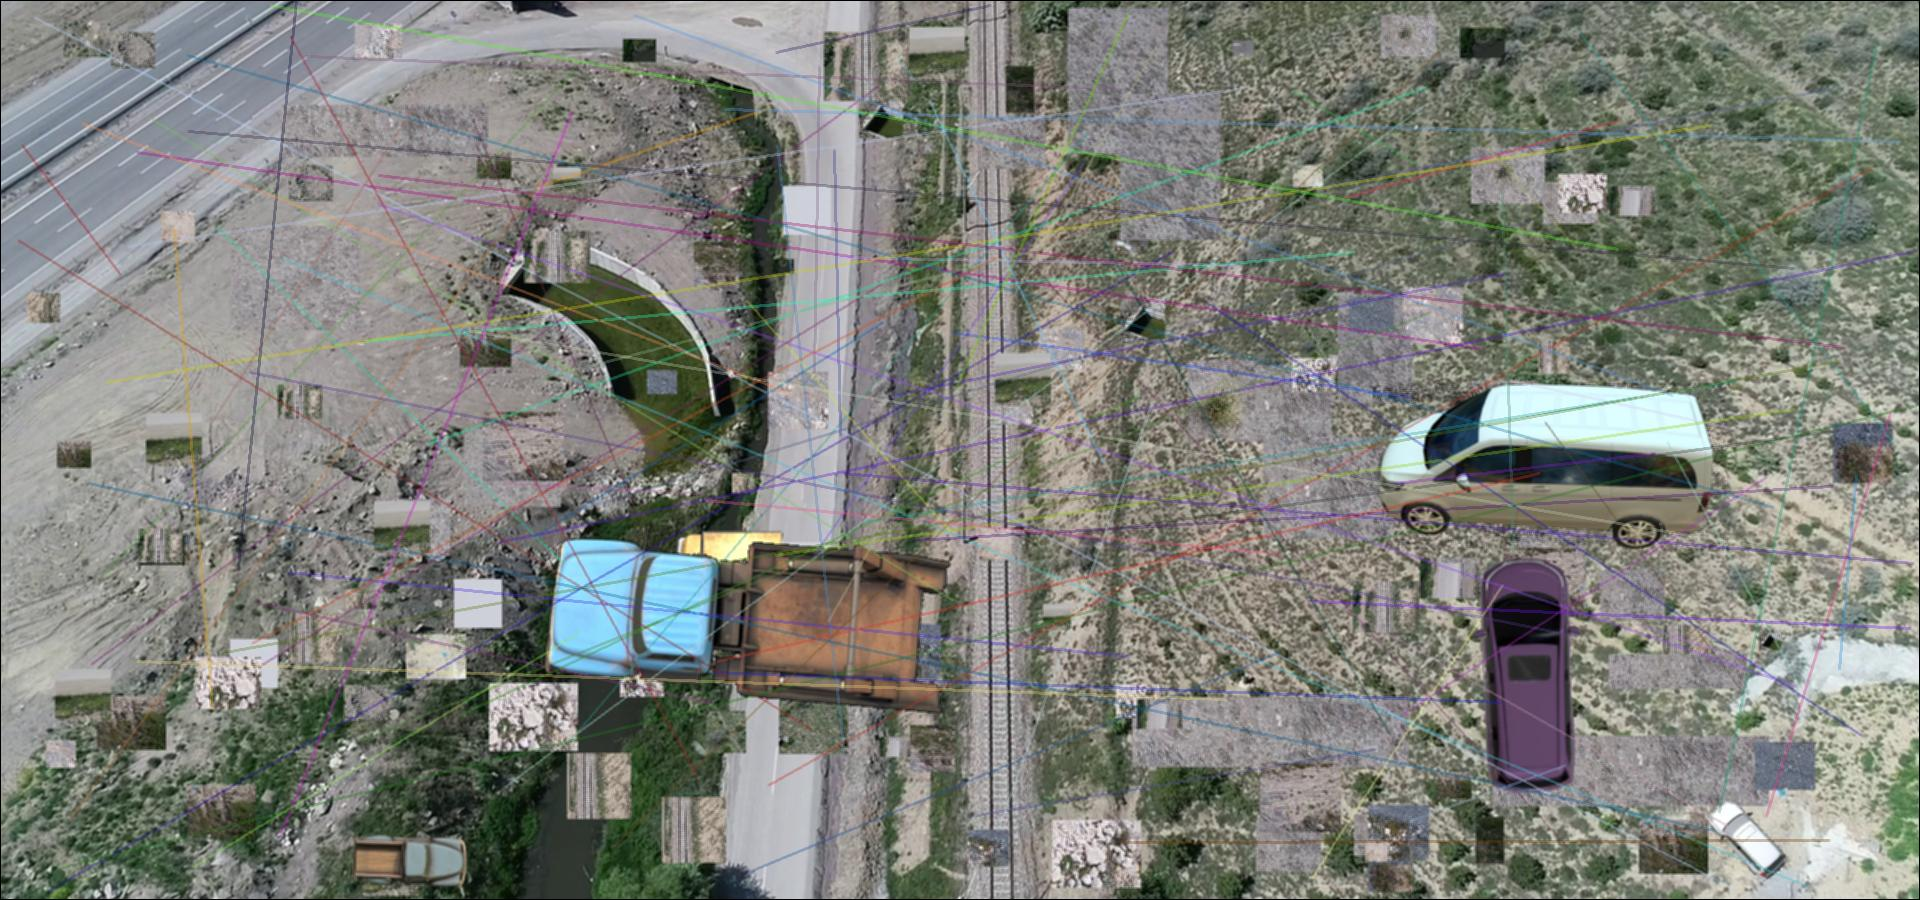arac: (531, 527, 953, 718), (1373, 383, 1730, 551), (1472, 555, 1582, 800), (673, 530, 786, 602), (1704, 792, 1789, 880), (351, 830, 468, 893)
